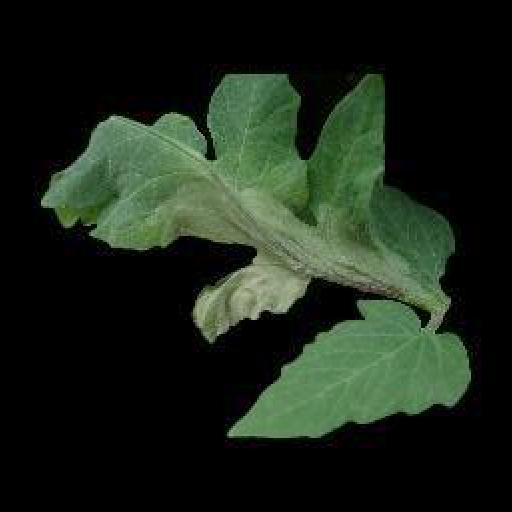disease_tomato: (40, 72, 448, 342)
